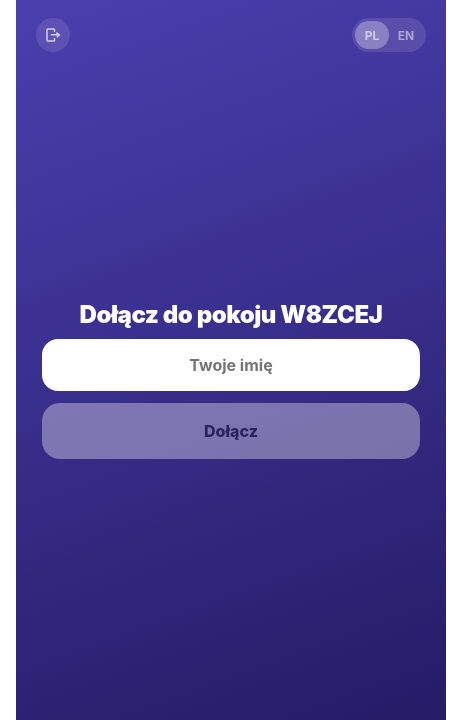
a Guest waiting to be let into a started Game › sees "Waiting for the Host to let you in" once the request is sent
Type "Latecomer" into the field with placeholder "Twoje imię". click: (231,365)
box: [42, 339, 420, 391]
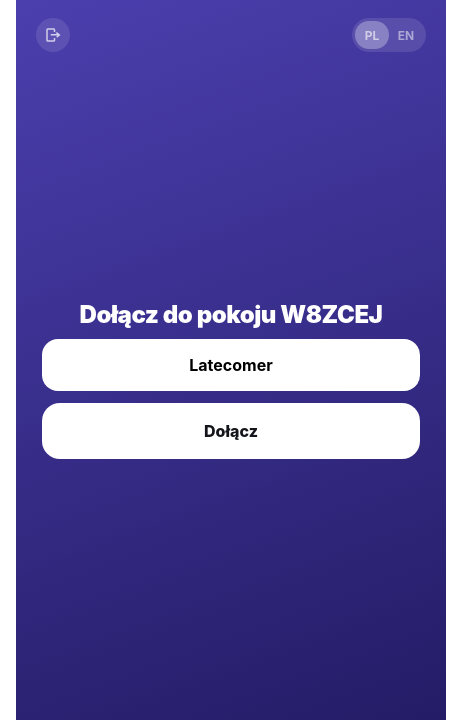
Submit the form "Dołącz", box [42, 339, 420, 459]
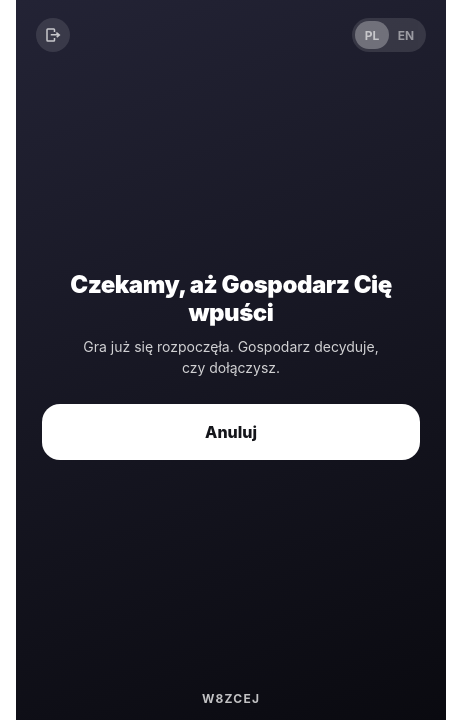
Expected: the text "Czekamy, aż Gospodarz Cię wpuści" is shown, [42, 271, 420, 326]
